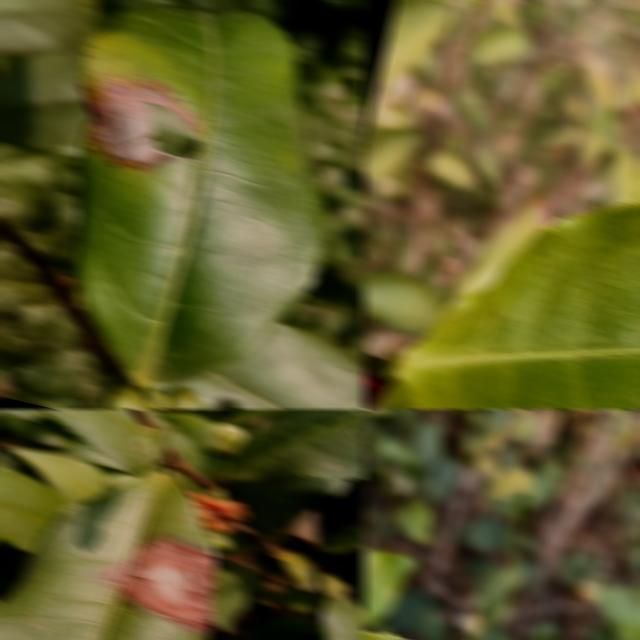Leaf: (73, 5, 325, 387), (390, 201, 640, 410), (0, 472, 217, 640), (176, 323, 366, 410), (225, 408, 366, 484), (0, 52, 92, 151), (38, 408, 147, 473), (374, 0, 451, 86), (232, 477, 348, 533), (6, 446, 109, 504), (0, 467, 67, 552), (0, 0, 97, 56), (362, 272, 448, 334), (362, 549, 419, 626), (362, 130, 423, 178), (209, 566, 250, 633), (318, 594, 366, 640), (393, 498, 435, 546), (131, 423, 176, 467), (317, 521, 366, 553), (225, 408, 285, 424), (477, 625, 514, 640)
